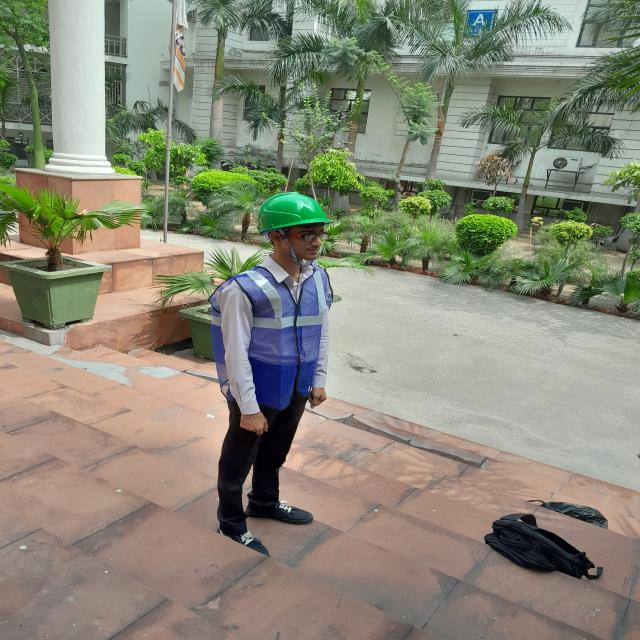safe: (216, 192, 333, 523)
